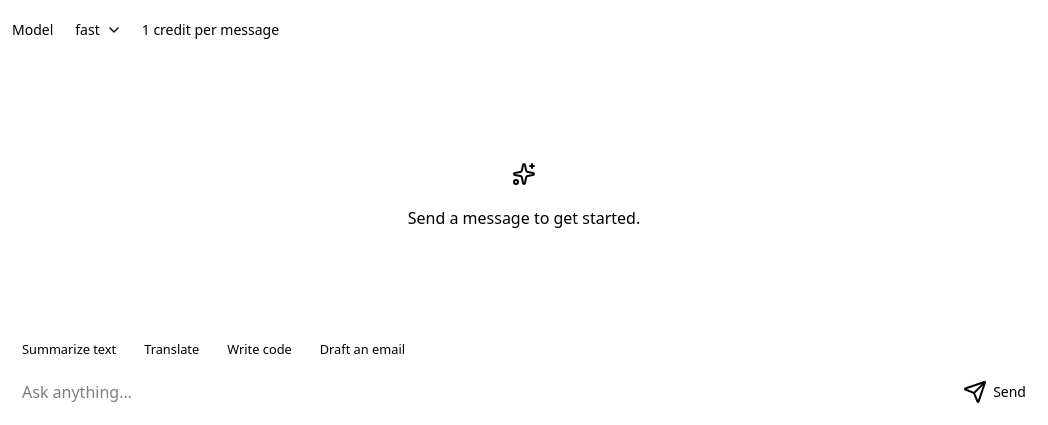
Scenario: Playground replies and templates › renders the reply as markdown with a copy button on code blocks
Step 1. Type "Show code" into the text box → (479, 392), box [12,376,945,408]
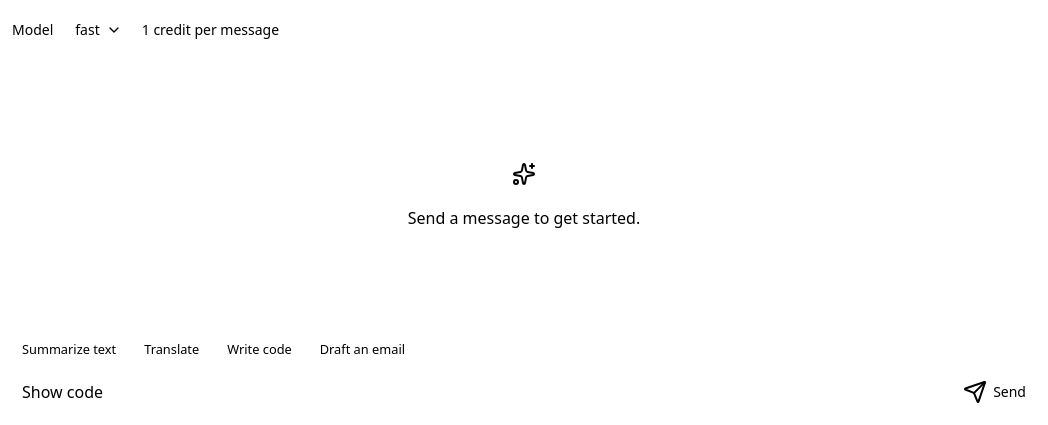
Step 2. Click the button "Send" → (995, 392), box [953,376,1036,408]
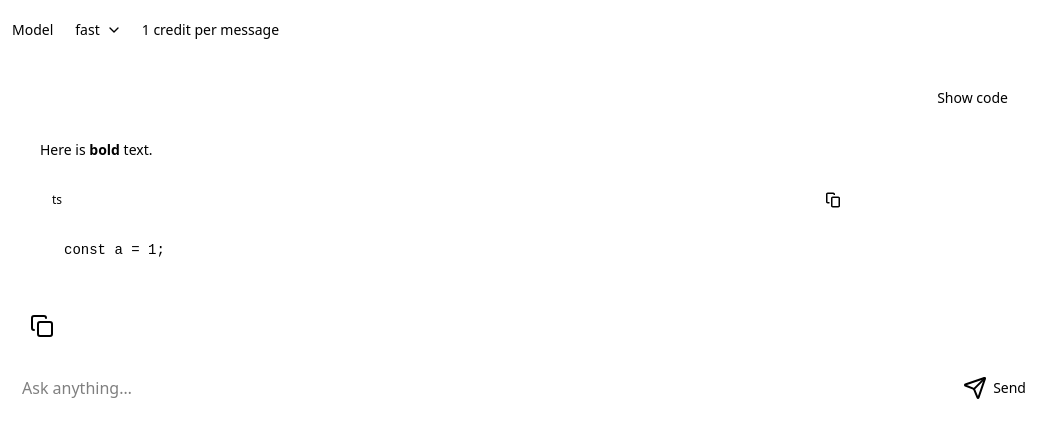
Check: the text "bold" is shown, box [89,140,120,159]
Check: the text "const a = 1;" is shown, box [64,242,165,258]
Check: the button named "Copy code" is shown, box [821,188,845,212]
